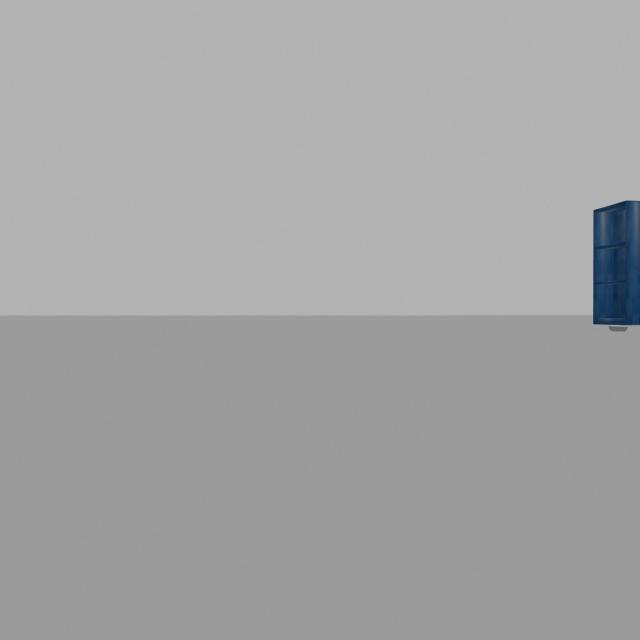bowl: (610, 321, 632, 335)
shelf: (588, 191, 640, 322)
